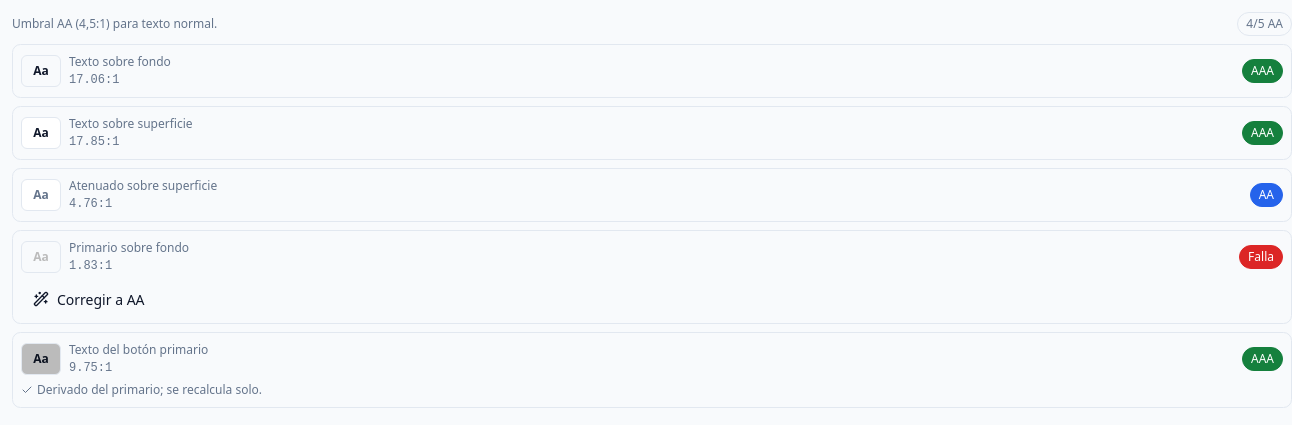
Test case: ContrastPanel › detecta un primario con poco contraste y ofrece corregirlo
The width and height of the screenshot is (1292, 425).
Check: the list item "Primario sobre fondo" is shown, box [69,239,189,256]
Check: the text "Falla" is shown, box [1239,245,1283,269]
Click the button with aria-label "corregir primario sobre fondo": (101, 299) [21,283,1283,315]
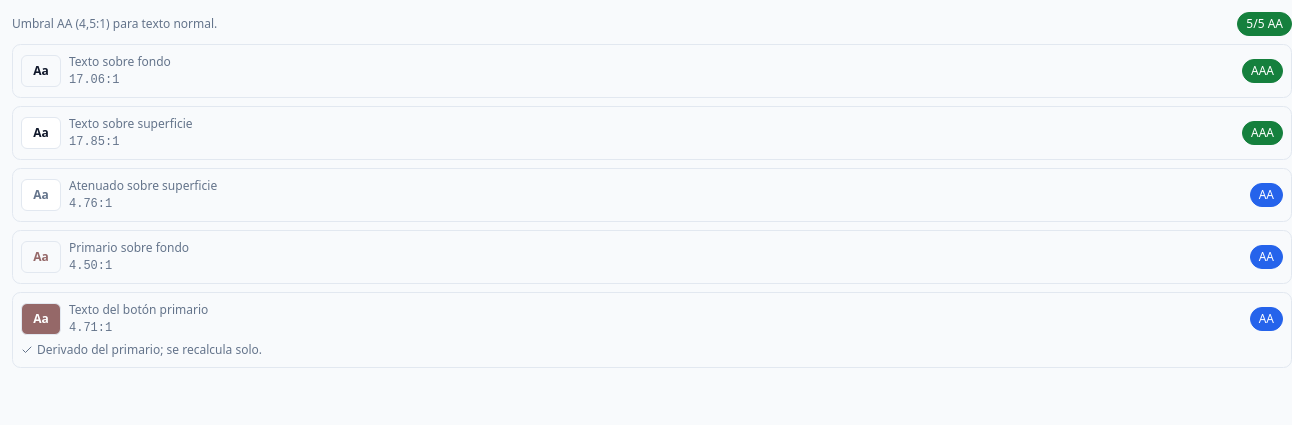
Check: the text "Falla" is gone
